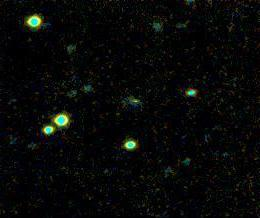star: (120, 85, 150, 115)
